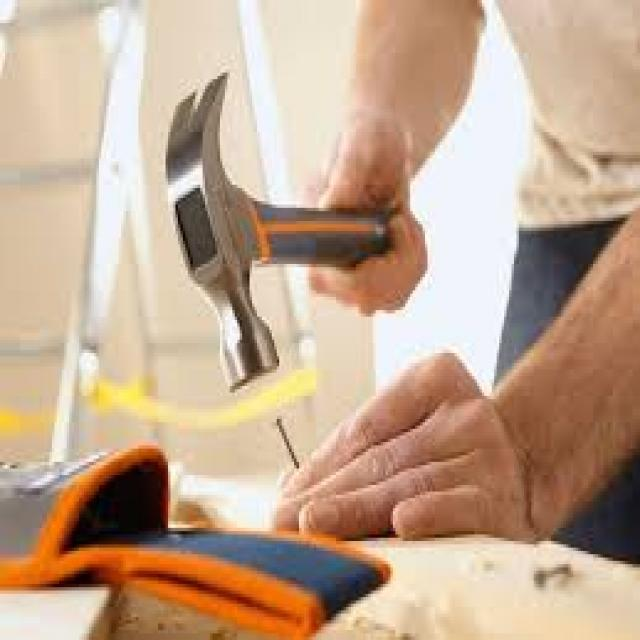hammer: (154, 62, 419, 402)
